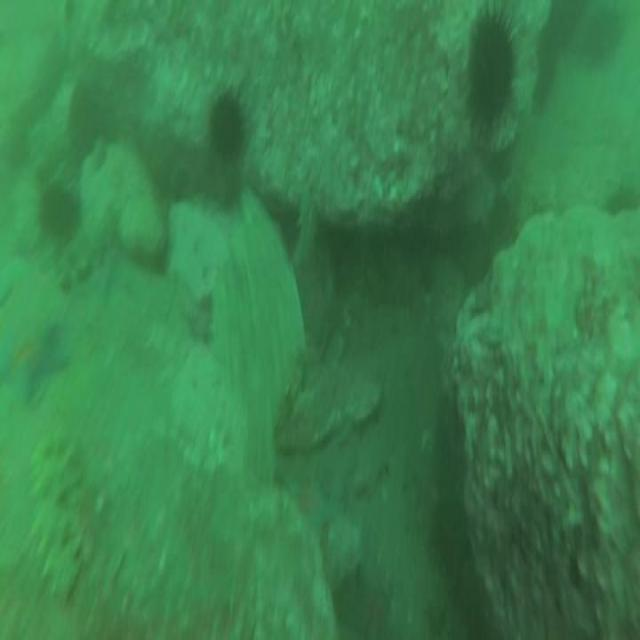echinus: (464, 1, 517, 146), (329, 567, 387, 640), (430, 493, 476, 582), (33, 174, 85, 250), (67, 80, 116, 156), (207, 80, 246, 174), (598, 178, 640, 215)
holothurian: (24, 428, 89, 605), (52, 204, 121, 292)
starfish: (0, 314, 68, 410), (279, 466, 346, 545)
